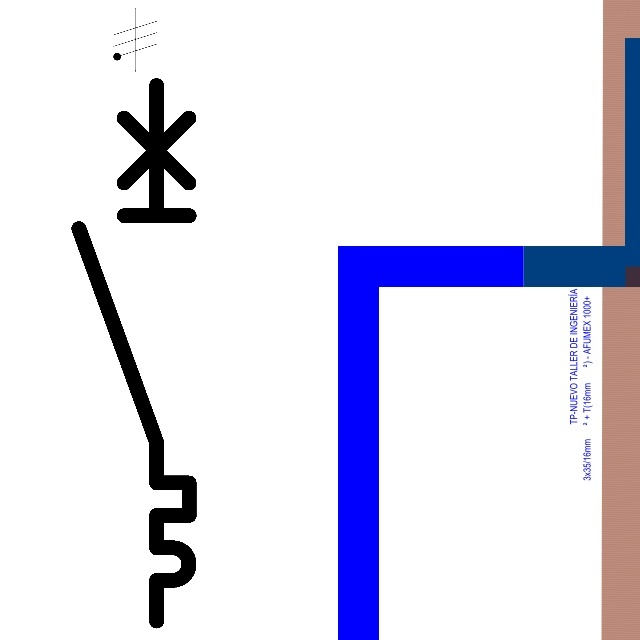interruptor_termomagnetico: (65, 71, 203, 635)
